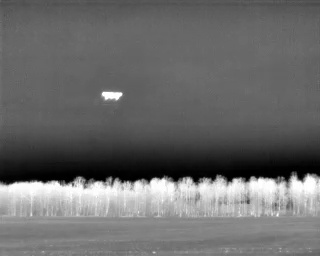DRONE: (97, 86, 126, 106)
